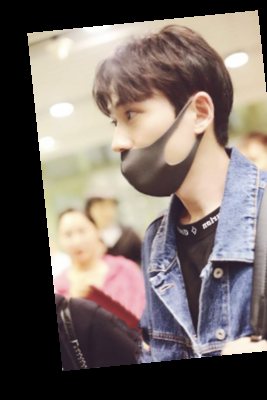mask_weared_incorrect: (86, 21, 242, 203)
